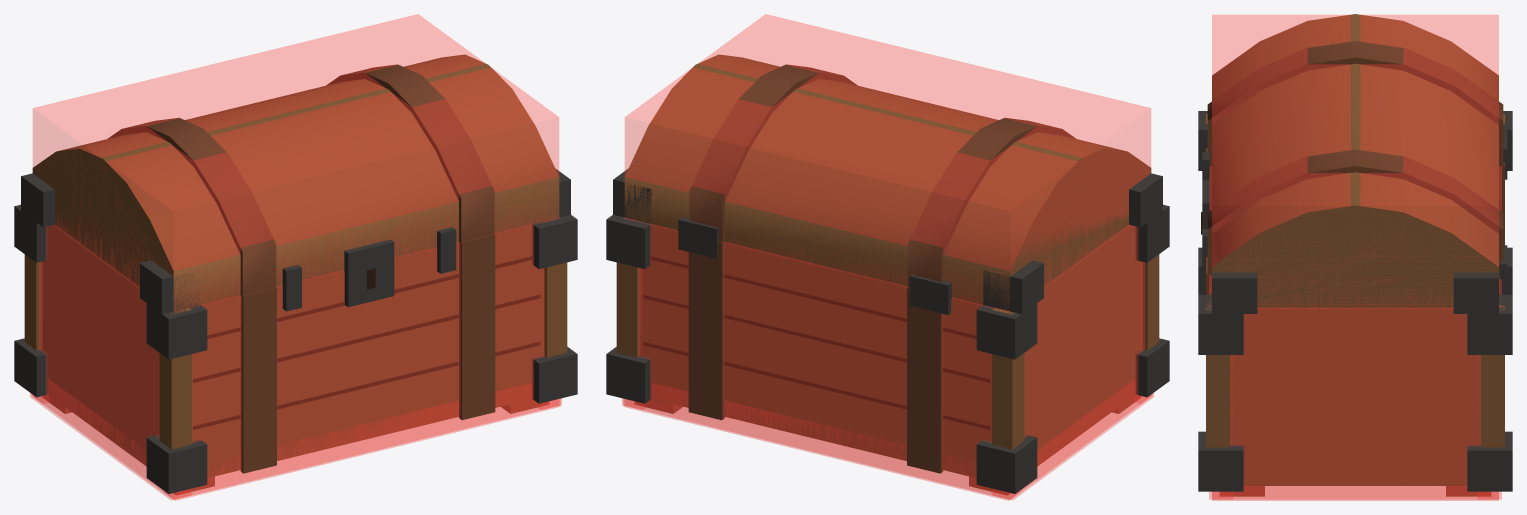
File: ChestC04.glb
The picture shows the model from 3 angles, left to right: view 1: azimuth 30°, elevation 25°; view 2: azimuth 150°, elevation 25°; view 3: azimuth 270°, elevation 25°; orthographic projection.
Parts seen in each view (by area): view 1: Col_Lid, Body_Wood, Lid_Wood, Col_Front, Col_SideLeft, Body_Iron, Lid_Leather, Body_Leather, Col_Floor, Lid_Iron, Body_Seams; view 2: Col_Lid, Body_Wood, Lid_Wood, Col_Back, Col_SideLeft, Body_Iron, Lid_Leather, Body_Leather, Col_Floor, Lid_Iron, Body_Seams; view 3: Lid_Wood, Col_Lid, Body_Wood, Col_SideRight, Lid_Leather, Body_Iron, Lid_Iron, Col_Floor, Body_Leather.
Boxes of the visible parts, x1,y1,x2,y2 form: Col_Lid: (33, 14, 558, 309); Body_Wood: (24, 220, 567, 495); Lid_Wood: (32, 54, 559, 311); Col_Front: (164, 218, 560, 500); Col_SideLeft: (30, 225, 181, 500); Body_Iron: (14, 204, 577, 493); Lid_Leather: (108, 64, 494, 295); Body_Leather: (240, 234, 495, 473); Col_Floor: (33, 379, 558, 499); Lid_Iron: (21, 169, 570, 314); Body_Seams: (193, 256, 540, 429); Col_Lid: (625, 14, 1150, 304); Body_Wood: (616, 222, 1159, 495); Lid_Wood: (624, 54, 1151, 310); Col_Back: (623, 218, 1010, 500); Col_SideLeft: (993, 225, 1153, 500); Body_Iron: (606, 204, 1169, 493); Lid_Leather: (689, 64, 1075, 287); Body_Leather: (688, 241, 943, 473); Col_Floor: (625, 379, 1150, 499); Lid_Iron: (613, 169, 1162, 314); Body_Seams: (643, 256, 990, 429); Lid_Wood: (1212, 14, 1498, 307); Col_Lid: (1212, 15, 1498, 308); Body_Wood: (1206, 114, 1504, 496); Col_SideRight: (1212, 308, 1498, 500); Lid_Leather: (1207, 41, 1503, 274); Body_Iron: (1198, 111, 1512, 491); Lid_Iron: (1212, 272, 1498, 313); Col_Floor: (1212, 486, 1498, 499); Body_Leather: (1206, 148, 1504, 294).
Size of the model in its own units: 3.18 by 2.2 by 2.08.
